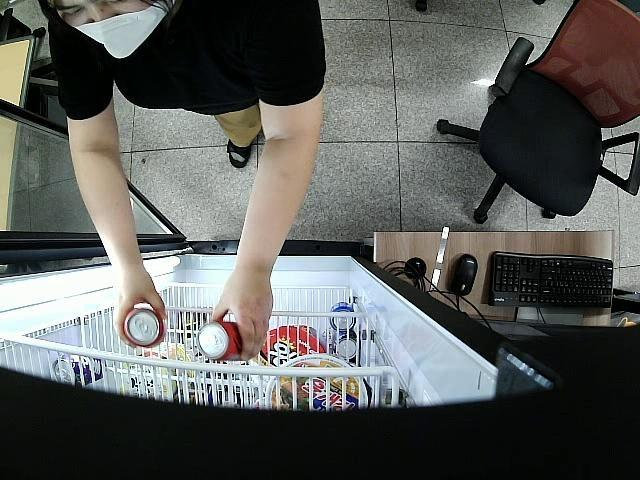11_cocaColaZero: (196, 320, 244, 362), (124, 308, 164, 347)
